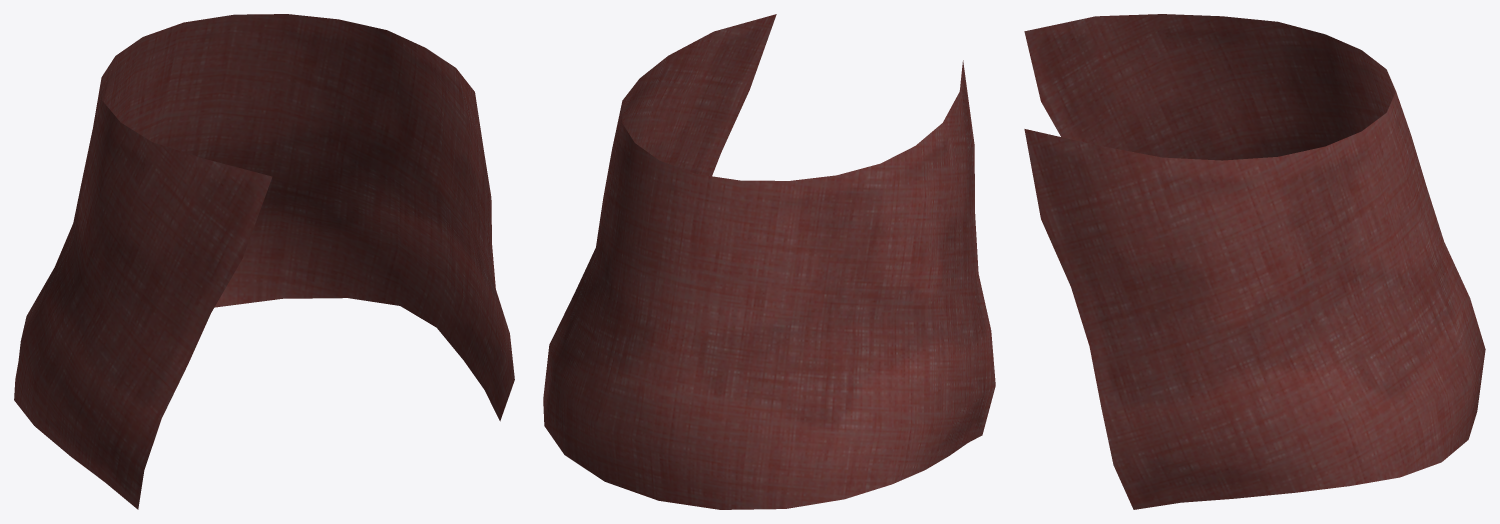
File: clo_easterlingwarriors02_helmet.fbx
3 renders of one model, left to right at view 1: azimuth 30°, elevation 25°; view 2: azimuth 150°, elevation 25°; view 3: azimuth 270°, elevation 25°, orthographic. The views are drawn at different scales.
Parts seen in each view (by area): view 1: clo_easterlingwarriors02_helmet; view 2: clo_easterlingwarriors02_helmet; view 3: clo_easterlingwarriors02_helmet.
Part boxes in pixels (x1,y1,x2,y2): clo_easterlingwarriors02_helmet: [14, 14, 514, 509]; clo_easterlingwarriors02_helmet: [543, 14, 995, 509]; clo_easterlingwarriors02_helmet: [1024, 14, 1485, 509].
Bounding box in the file's own units: 0.26 × 0.262 × 0.2159.
Materials: 1 (1 with a texture image).
